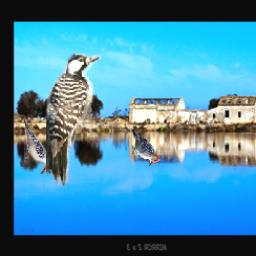Woodpecker: (46, 55, 101, 187), (24, 117, 54, 175), (132, 130, 162, 166)
